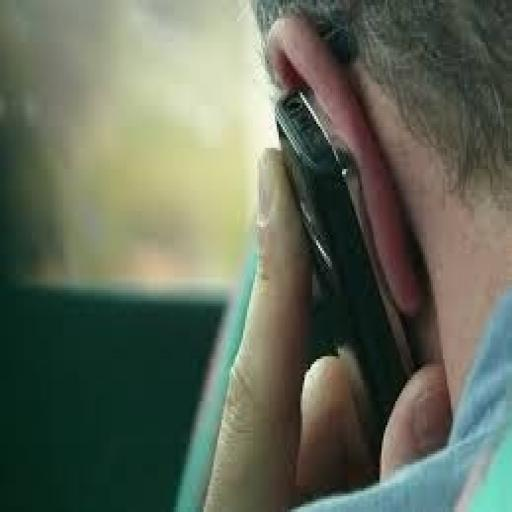calling: (176, 0, 510, 509)
